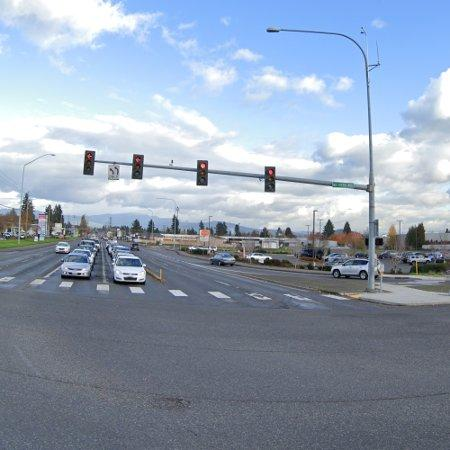crosswalks: (0, 276, 353, 301)
